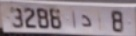2: (25, 7, 36, 28)
3: (8, 6, 23, 28)
6: (50, 7, 60, 29)
8: (112, 9, 123, 32), (38, 7, 48, 28)
d: (80, 13, 92, 28)
